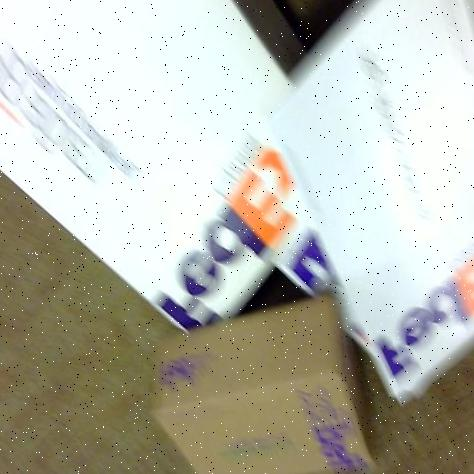Amazon: (0, 0, 338, 343)
